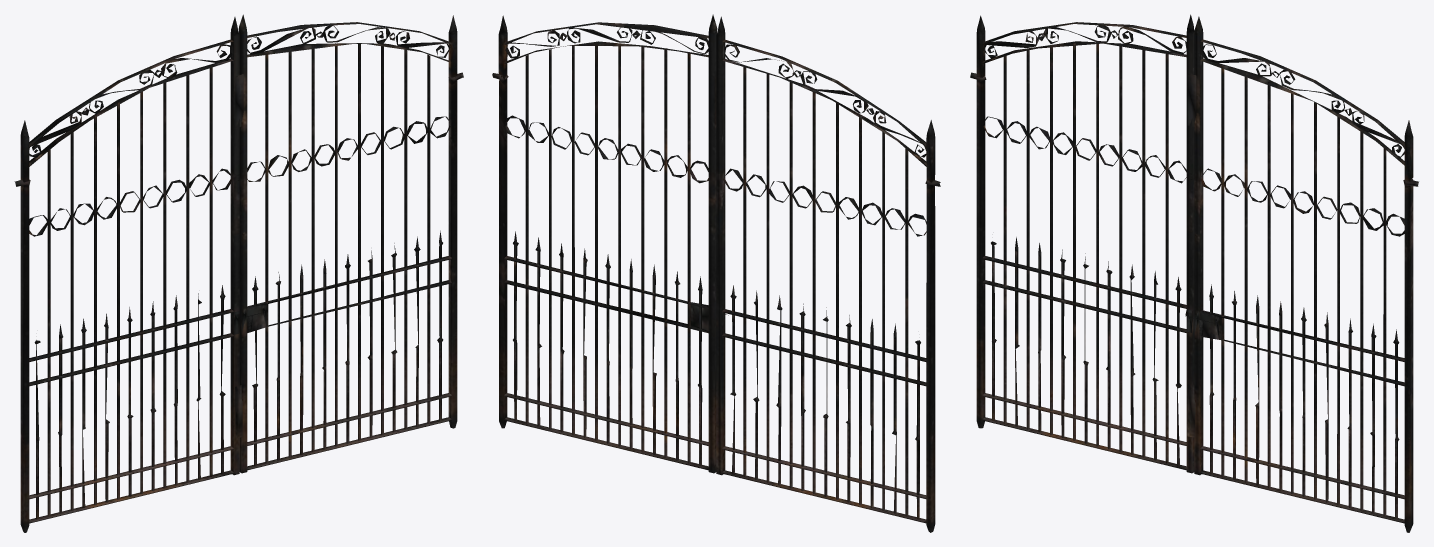
Rendered from iron_gate.glb.
3 renders of one model, left to right at view 1: azimuth 30°, elevation 25°; view 2: azimuth 150°, elevation 25°; view 3: azimuth 330°, elevation 25°, orthographic.
Visible parts, largest first — view 1: iron_gate; view 2: iron_gate; view 3: iron_gate.
Part boxes in pixels (x1,y1,x2,y2): iron_gate: (14,14,463,532); iron_gate: (492,14,940,532); iron_gate: (970,14,1418,532).
Size of the model in its own units: 2.95 by 2.93 by 0.072.
Materials: 1 (1 with a texture image).
